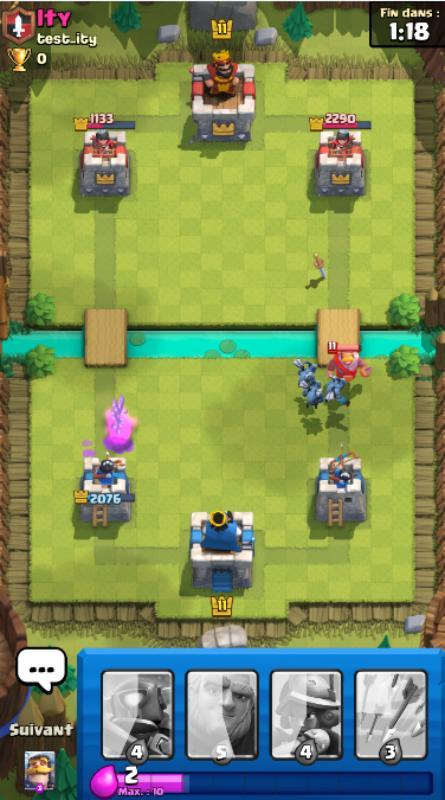chevalier: (326, 342, 372, 386)
gargouille: (325, 376, 351, 407), (300, 380, 324, 410), (293, 358, 317, 388)
